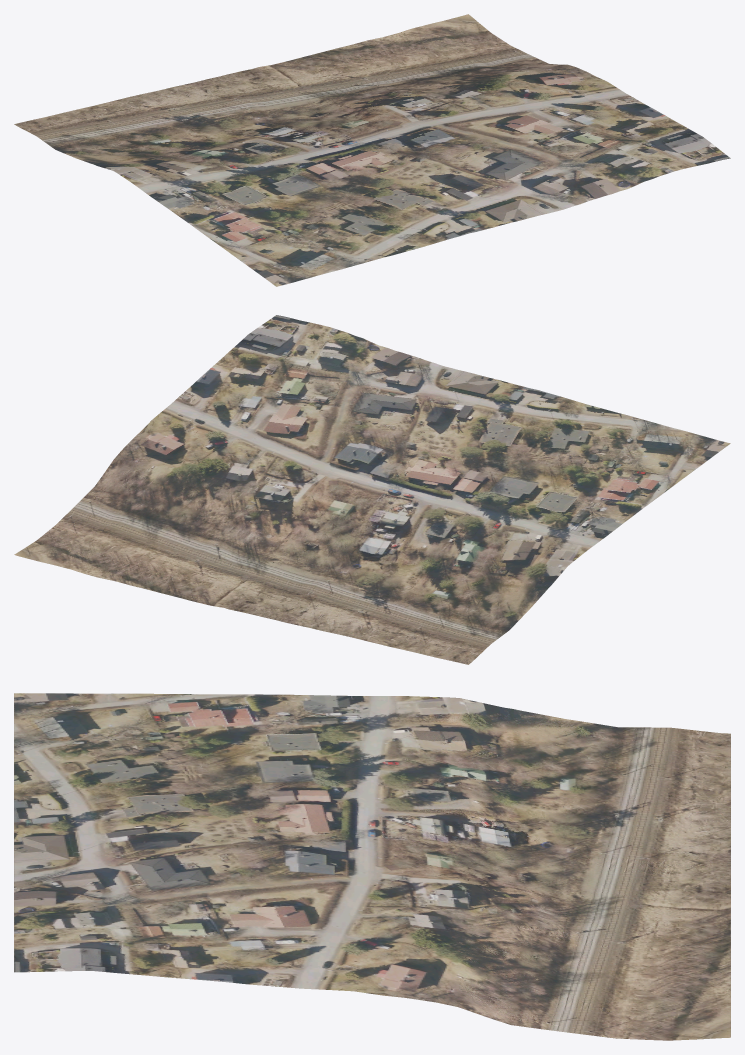
Rendered from CM_Terrain_24491073_6819794.fbx.
3 views of the same model, one above another, from view 1: azimuth 30°, elevation 25°; view 2: azimuth 150°, elevation 25°; view 3: azimuth 270°, elevation 25° (orthographic). The views are drawn at different scales.
Visible parts, largest first — view 1: CM_Terrain_24491073_6819794_LOD0; view 2: CM_Terrain_24491073_6819794_LOD0; view 3: CM_Terrain_24491073_6819794_LOD0.
Boxes of the visible parts, <box> form: CM_Terrain_24491073_6819794_LOD0: <box>14,14,730,286</box>; CM_Terrain_24491073_6819794_LOD0: <box>14,315,730,664</box>; CM_Terrain_24491073_6819794_LOD0: <box>14,693,730,1040</box>.
Size of what is drawn, in the model's own units: 205 by 22.53 by 205.
